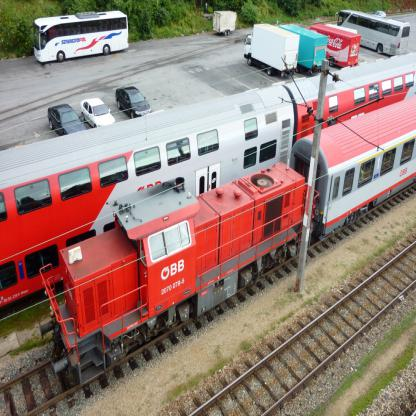Bus: (29, 6, 129, 64), (333, 8, 411, 58)
